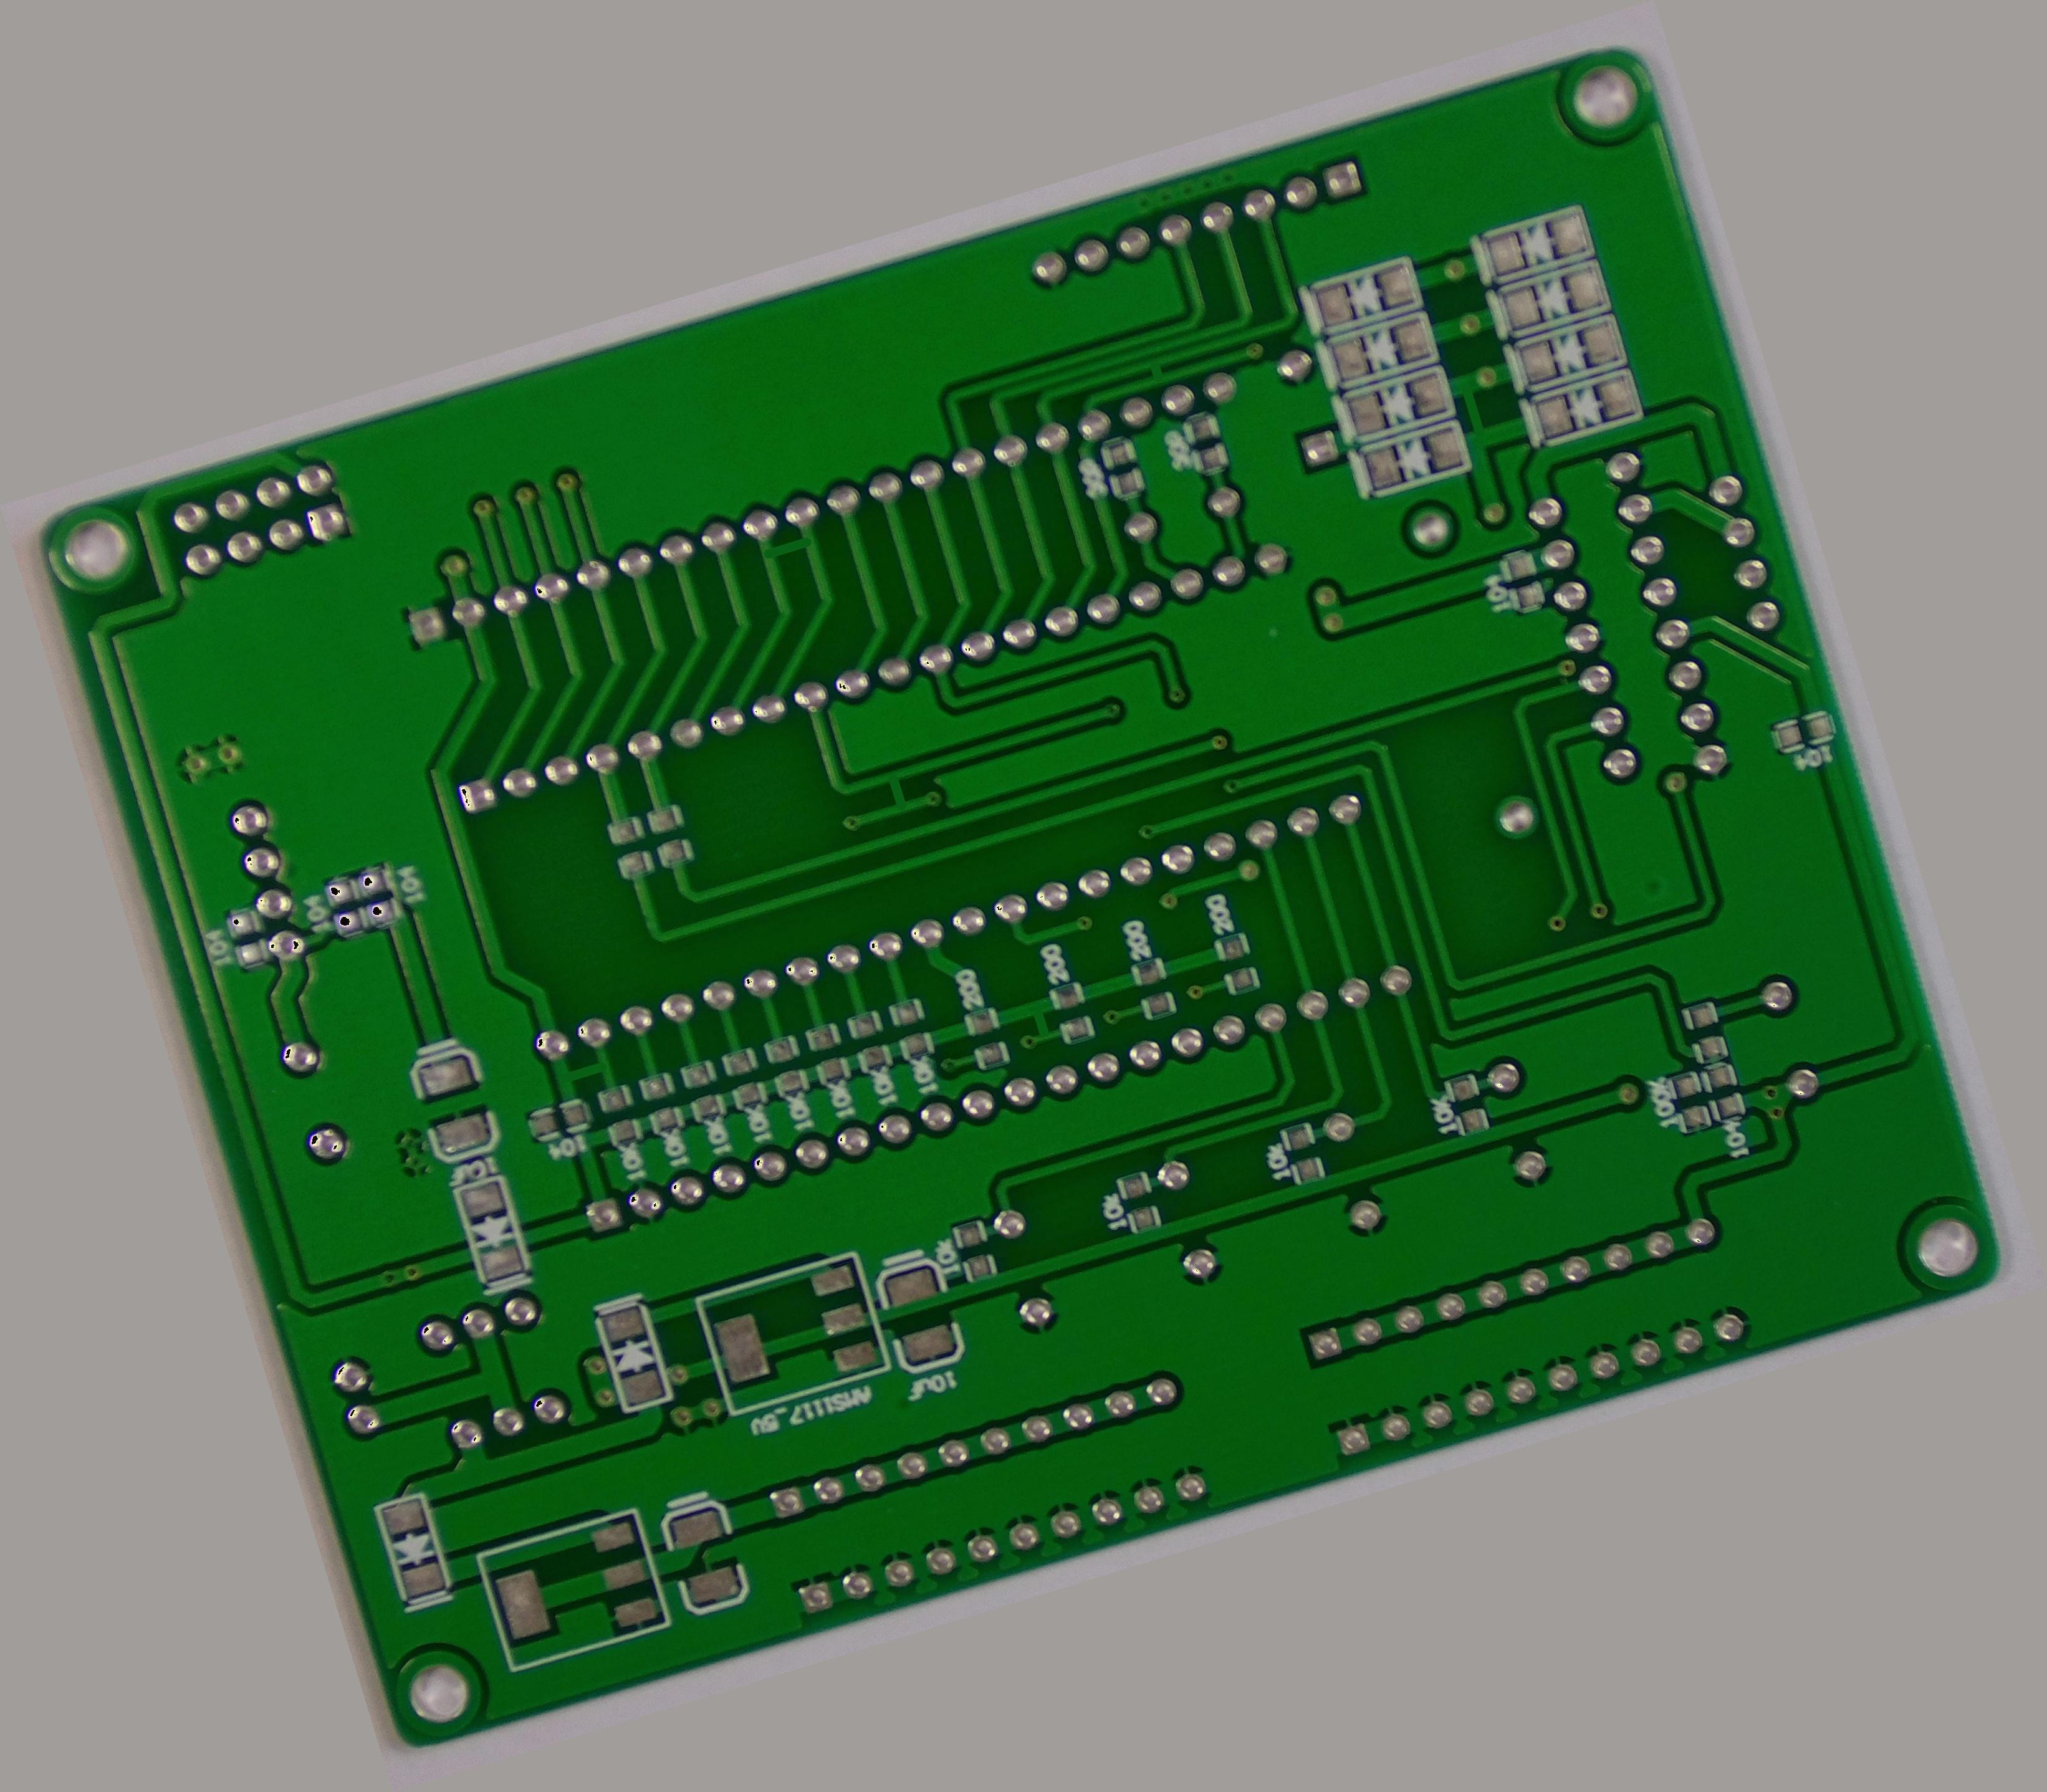short: (750, 518, 827, 572), (547, 1049, 618, 1094), (870, 760, 923, 819), (1011, 995, 1064, 1049), (1135, 357, 1171, 386)
